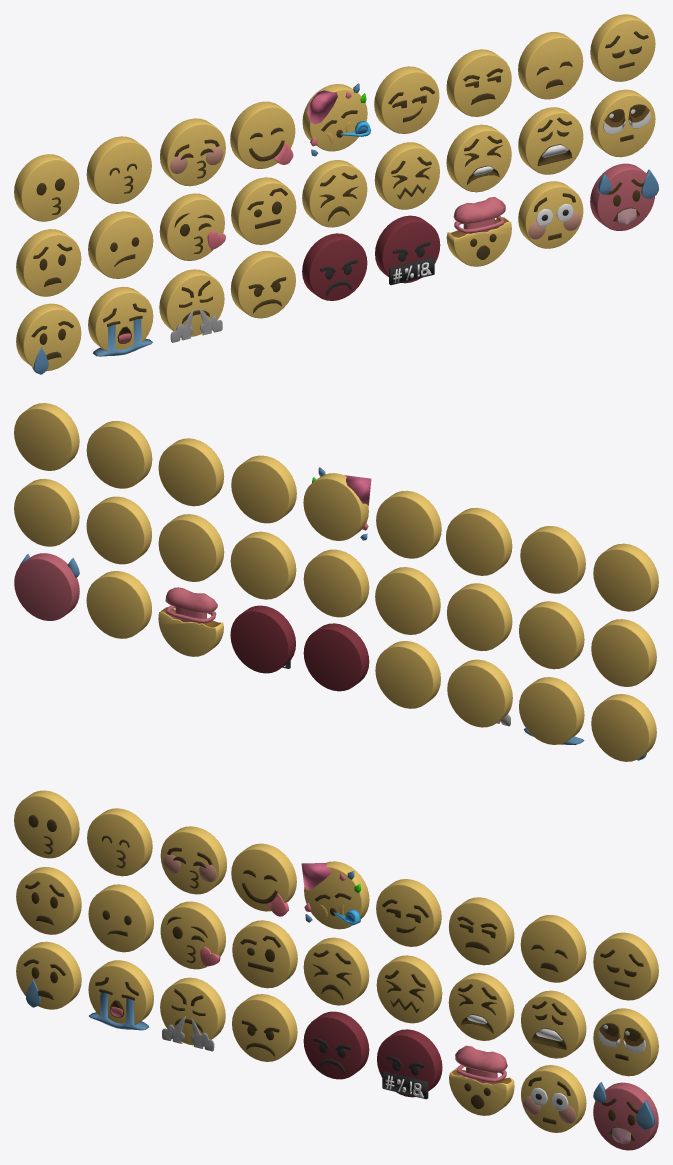
The model's file is Emoji Pack Model 2.fbx.
3 views of the same model, one above another, from view 1: azimuth 30°, elevation 25°; view 2: azimuth 150°, elevation 25°; view 3: azimuth 330°, elevation 25° (orthographic).
Visible parts, largest first — view 1: Cylinder.195, Cylinder.040, Cylinder.199, Cylinder.198, Cylinder.211, Cylinder.204, Cylinder.042, Cylinder.033, Cylinder.039, Cylinder.196, Cylinder.194, Cylinder.038 (+15 smaller); view 2: Cylinder.199, Cylinder.211, Cylinder.040, Cylinder.195, Cylinder.033, Cylinder.204, Cylinder.039, Cylinder.200, Cylinder.202, Cylinder.206, Cylinder.203, Cylinder.038 (+15 smaller); view 3: Cylinder.199, Cylinder.195, Cylinder.040, Cylinder.198, Cylinder.211, Cylinder.204, Cylinder.033, Cylinder.039, Cylinder.042, Cylinder.196, Cylinder.201, Cylinder.212 (+15 smaller).
Part boxes in pixels (left/top/right/bottom): Cylinder.195: left=159, top=269, right=224, bottom=342; Cylinder.040: left=88, top=286, right=153, bottom=356; Cylinder.199: left=302, top=83, right=371, bottom=156; Cylinder.198: left=230, top=101, right=295, bottom=168; Cylinder.211: left=590, top=163, right=658, bottom=230; Cylinder.204: left=375, top=215, right=440, bottom=285; Cylinder.042: left=159, top=193, right=225, bottom=260; Cylinder.033: left=160, top=118, right=225, bottom=186; Cylinder.039: left=16, top=303, right=81, bottom=374; Cylinder.196: left=214, top=250, right=295, bottom=332; Cylinder.194: left=590, top=14, right=655, bottom=81; Cylinder.038: left=16, top=229, right=81, bottom=296; Cylinder.199: left=303, top=467, right=371, bottom=540; Cylinder.211: left=14, top=553, right=79, bottom=620; Cylinder.040: left=519, top=677, right=584, bottom=744; Cylinder.195: left=447, top=659, right=512, bottom=727; Cylinder.033: left=446, top=507, right=512, bottom=575; Cylinder.204: left=230, top=605, right=295, bottom=673; Cylinder.039: left=591, top=694, right=656, bottom=761; Cylinder.200: left=303, top=549, right=369, bottom=617; Cylinder.202: left=231, top=455, right=296, bottom=523; Cylinder.206: left=158, top=514, right=224, bottom=581; Cylinder.203: left=230, top=531, right=296, bottom=599; Cylinder.038: left=591, top=619, right=656, bottom=686; Cylinder.199: left=301, top=861, right=369, bottom=929; Cylinder.195: left=160, top=977, right=225, bottom=1050; Cylinder.040: left=88, top=960, right=153, bottom=1030; Cylinder.198: left=231, top=843, right=296, bottom=916; Cylinder.211: left=593, top=1082, right=658, bottom=1150; Cylinder.204: left=377, top=1029, right=442, bottom=1099; Cylinder.033: left=160, top=826, right=226, bottom=894; Cylinder.039: left=16, top=941, right=81, bottom=1009; Cylinder.042: left=160, top=901, right=225, bottom=969; Cylinder.196: left=205, top=994, right=297, bottom=1061; Cylinder.201: left=303, top=1011, right=369, bottom=1079; Cylinder.212: left=593, top=1008, right=658, bottom=1076.
Bounding box in the file's own units: 950 × 304 × 40.64.
